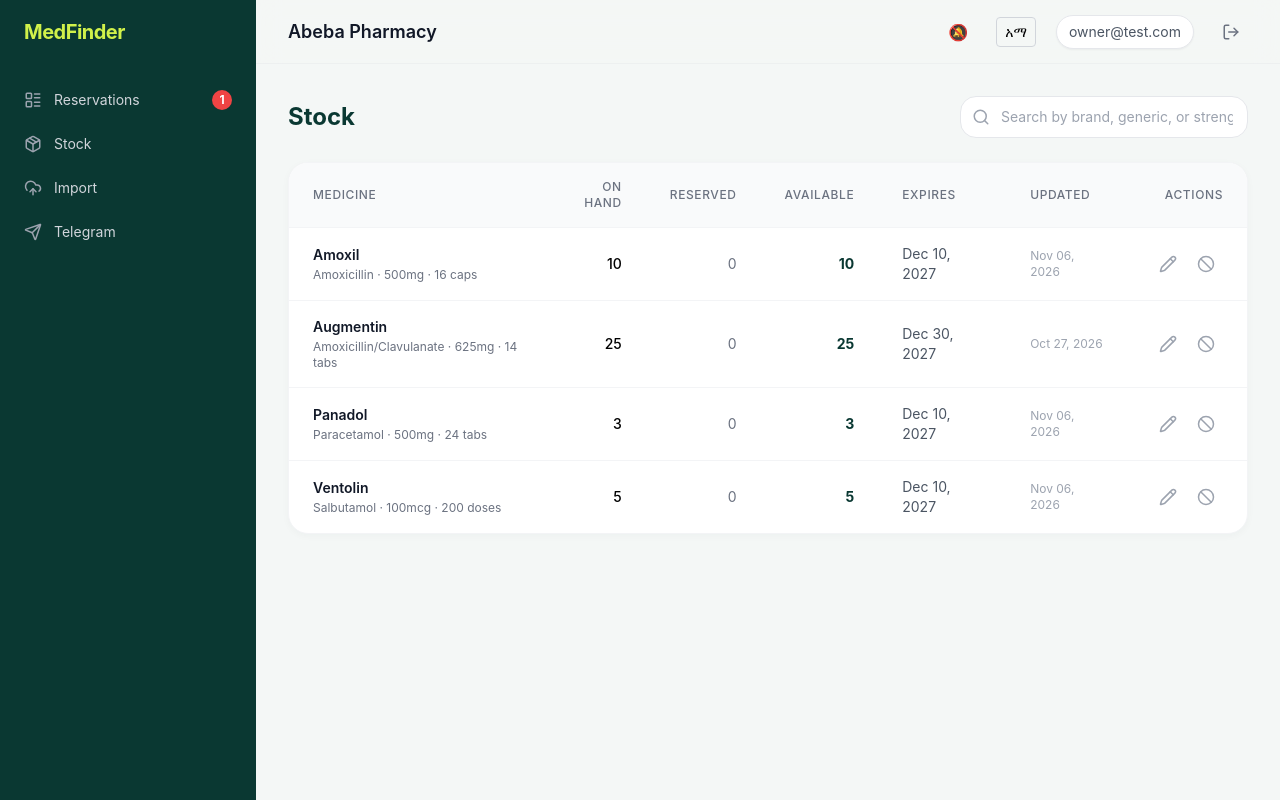
Test: StockPage › filters visible rows by search query
Expected: the text "Amoxil" is shown, [313,246,359,263]
In the search field with placeholder "Search by brand, generic, or strength": [1104, 117] box [960,96,1248,138], type "panadol"
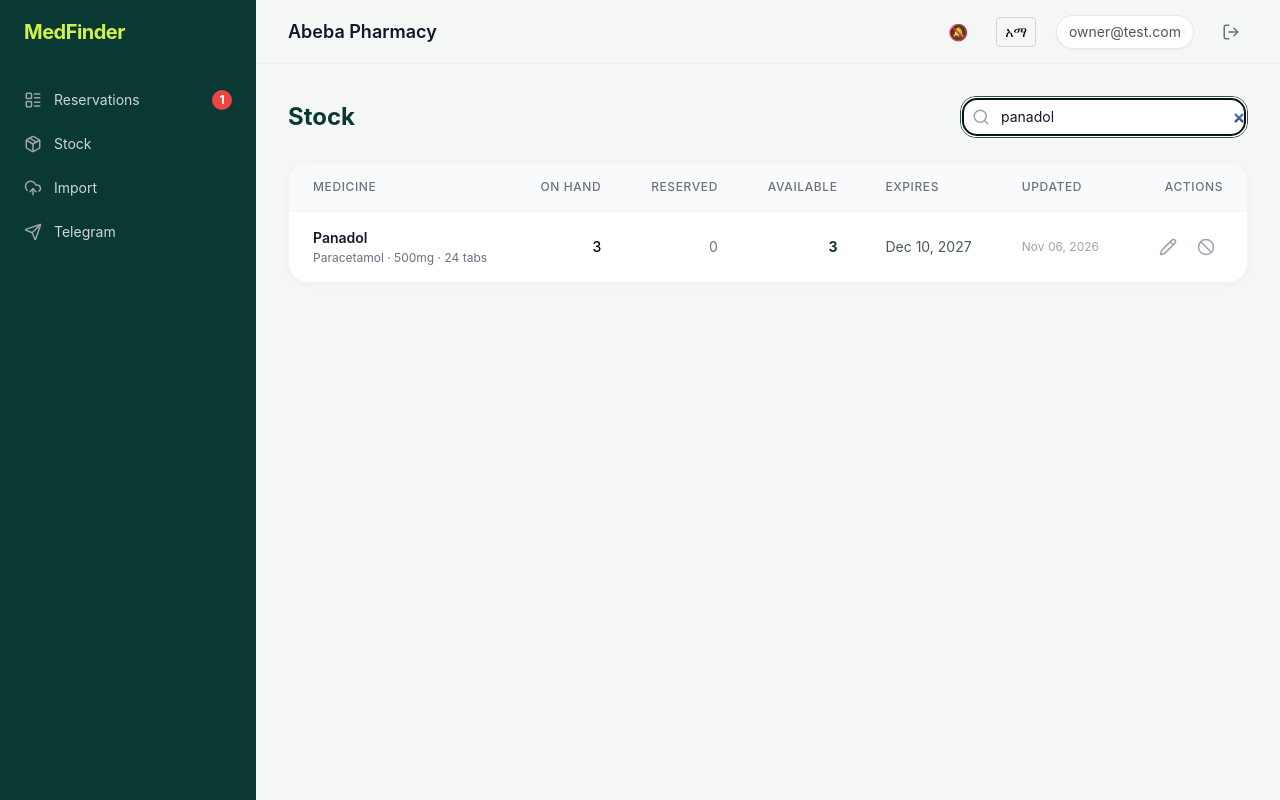
Expected: the text "Panadol" is shown, [313,229,368,246]
Expected: the text "Amoxil" is gone
Expected: the text "Ventolin" is gone
